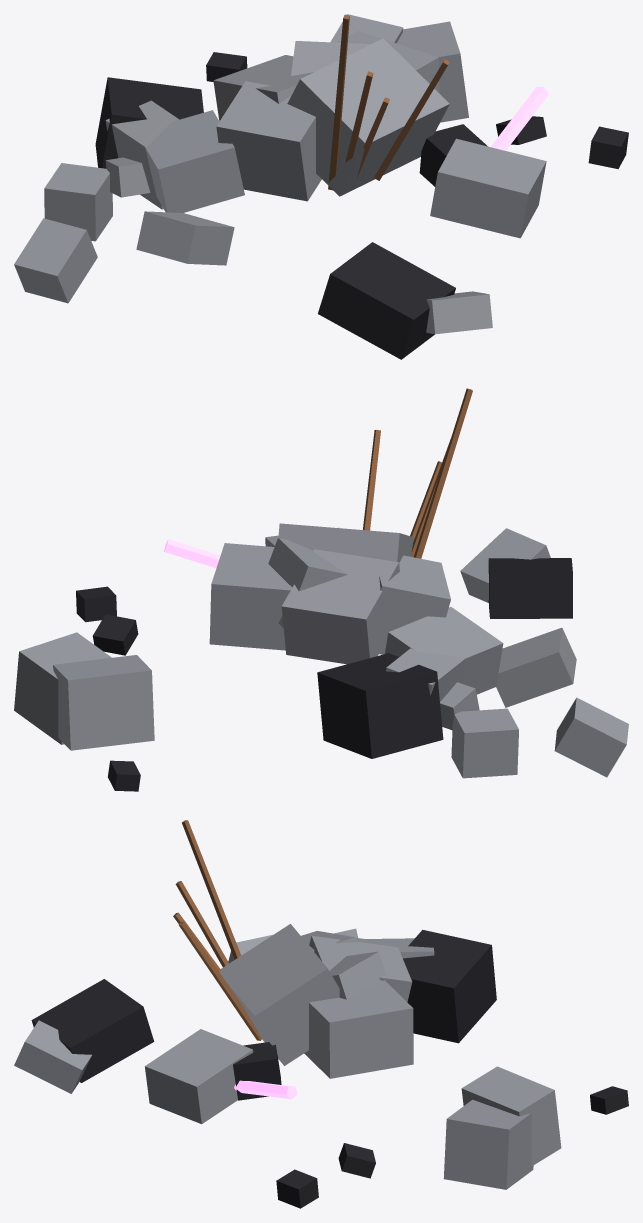
Rendered from Prop_Rubble.fbx.
The picture shows the model from 3 angles, top to bottom: view 1: azimuth 30°, elevation 25°; view 2: azimuth 150°, elevation 25°; view 3: azimuth 270°, elevation 25°; orthographic projection. The views are drawn at different scales.
Visible parts, largest first — view 1: Rubble_Chunk11, Rubble_Chunk8, Rubble_Chunk17, Rubble_Chunk13, Rubble_Chunk1, Rubble_Chunk6, Rubble_Chunk14, Rubble_Chunk16, Rubble_Chunk19, Rubble_Chunk2, Rubble_Chunk10, Rubble_Chunk3 (+13 smaller); view 2: Rubble_Chunk16, Rubble_Chunk10, Rubble_Chunk21, Rubble_Chunk5, Rubble_Chunk8, Rubble_Chunk1, Rubble_Chunk2, Rubble_Chunk14, Rubble_Chunk19, Rubble_Chunk17, Rubble_Chunk6, Rubble_Chunk11 (+10 smaller); view 3: Rubble_Chunk11, Rubble_Chunk5, Rubble_Chunk16, Rubble_Chunk13, Rubble_Chunk2, Rubble_Chunk8, Rubble_Chunk21, Rubble_Chunk9, Rubble_Chunk10, Rubble_Chunk7, Rubble_Chunk12, Rubble_Chunk20 (+7 smaller).
Part boxes in pixels (x1,y1,x2,y2): Rubble_Chunk11: (287, 38, 449, 196); Rubble_Chunk8: (318, 242, 455, 359); Rubble_Chunk17: (216, 81, 321, 201); Rubble_Chunk13: (430, 138, 546, 238); Rubble_Chunk1: (145, 110, 244, 212); Rubble_Chunk6: (14, 218, 97, 303); Rubble_Chunk14: (136, 211, 234, 265); Rubble_Chunk16: (95, 77, 203, 168); Rubble_Chunk19: (44, 163, 112, 241); Rubble_Chunk2: (396, 21, 468, 122); Rubble_Chunk10: (213, 55, 313, 121); Rubble_Chunk3: (105, 100, 178, 209); Rubble_Chunk16: (317, 653, 443, 758); Rubble_Chunk10: (281, 549, 399, 664); Rubble_Chunk21: (53, 655, 154, 750); Rubble_Chunk5: (209, 543, 292, 650); Rubble_Chunk8: (488, 558, 572, 618); Rubble_Chunk1: (385, 607, 503, 694); Rubble_Chunk2: (14, 632, 111, 744); Rubble_Chunk14: (496, 627, 576, 707); Rubble_Chunk19: (451, 708, 518, 778); Rubble_Chunk17: (379, 555, 450, 654); Rubble_Chunk6: (554, 697, 628, 777); Rubble_Chunk11: (278, 523, 414, 562); Rubble_Chunk11: (219, 924, 339, 1065); Rubble_Chunk5: (304, 980, 413, 1078); Rubble_Chunk16: (403, 929, 496, 1043); Rubble_Chunk13: (145, 1029, 253, 1124); Rubble_Chunk2: (443, 1099, 533, 1189); Rubble_Chunk8: (31, 979, 154, 1082); Rubble_Chunk21: (461, 1066, 561, 1165); Rubble_Chunk9: (14, 1020, 91, 1093); Rubble_Chunk10: (309, 936, 412, 1002); Rubble_Chunk7: (329, 951, 386, 999); Rubble_Chunk12: (233, 1042, 281, 1100); Rubble_Chunk20: (276, 1169, 318, 1208).
Bounding box in the file's own units: 0.8796 × 0.4019 × 0.8912.
